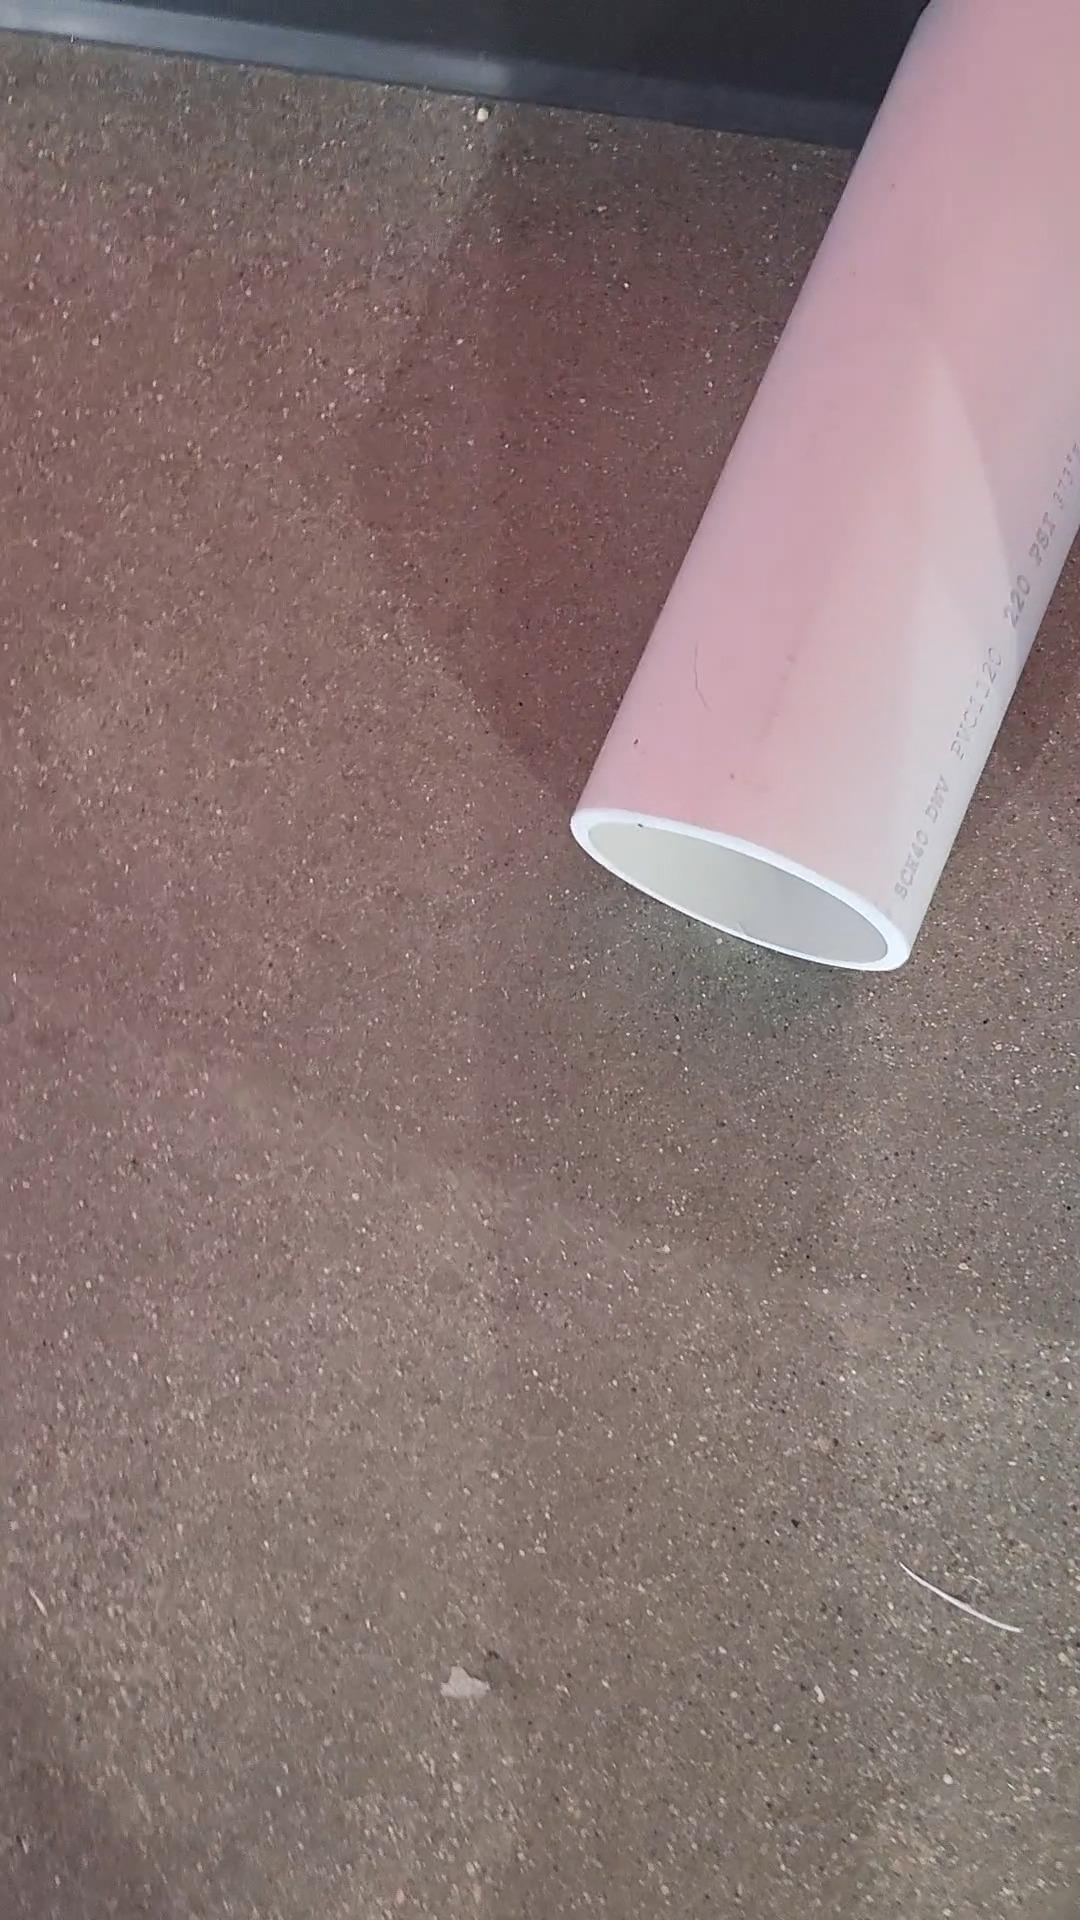coral: (566, 0, 1080, 997)
